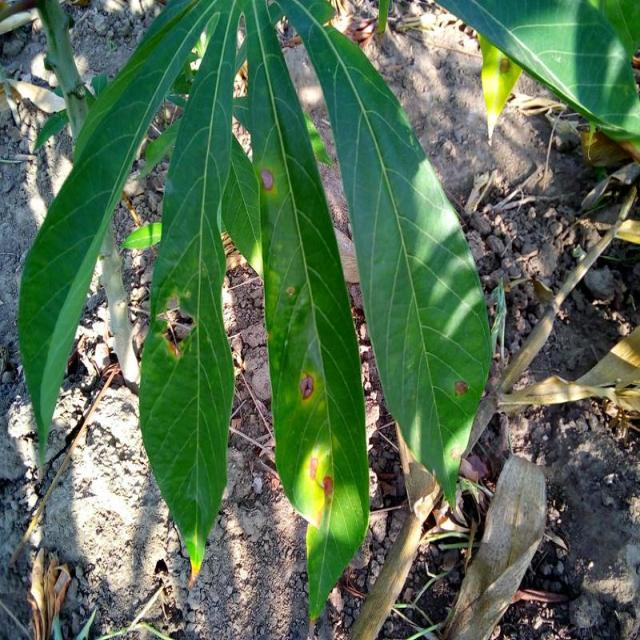cassava leaf: (280, 0, 494, 511), (17, 0, 230, 470), (243, 0, 372, 621), (138, 0, 244, 588), (435, 0, 640, 158)
